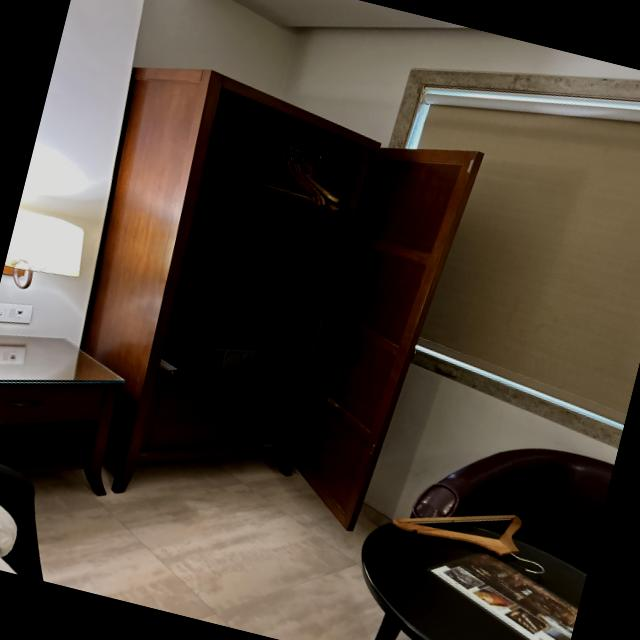mess: (346, 463, 601, 640)
